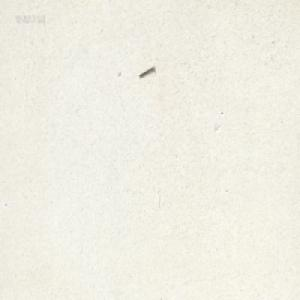Bolt: (139, 65, 155, 77)
